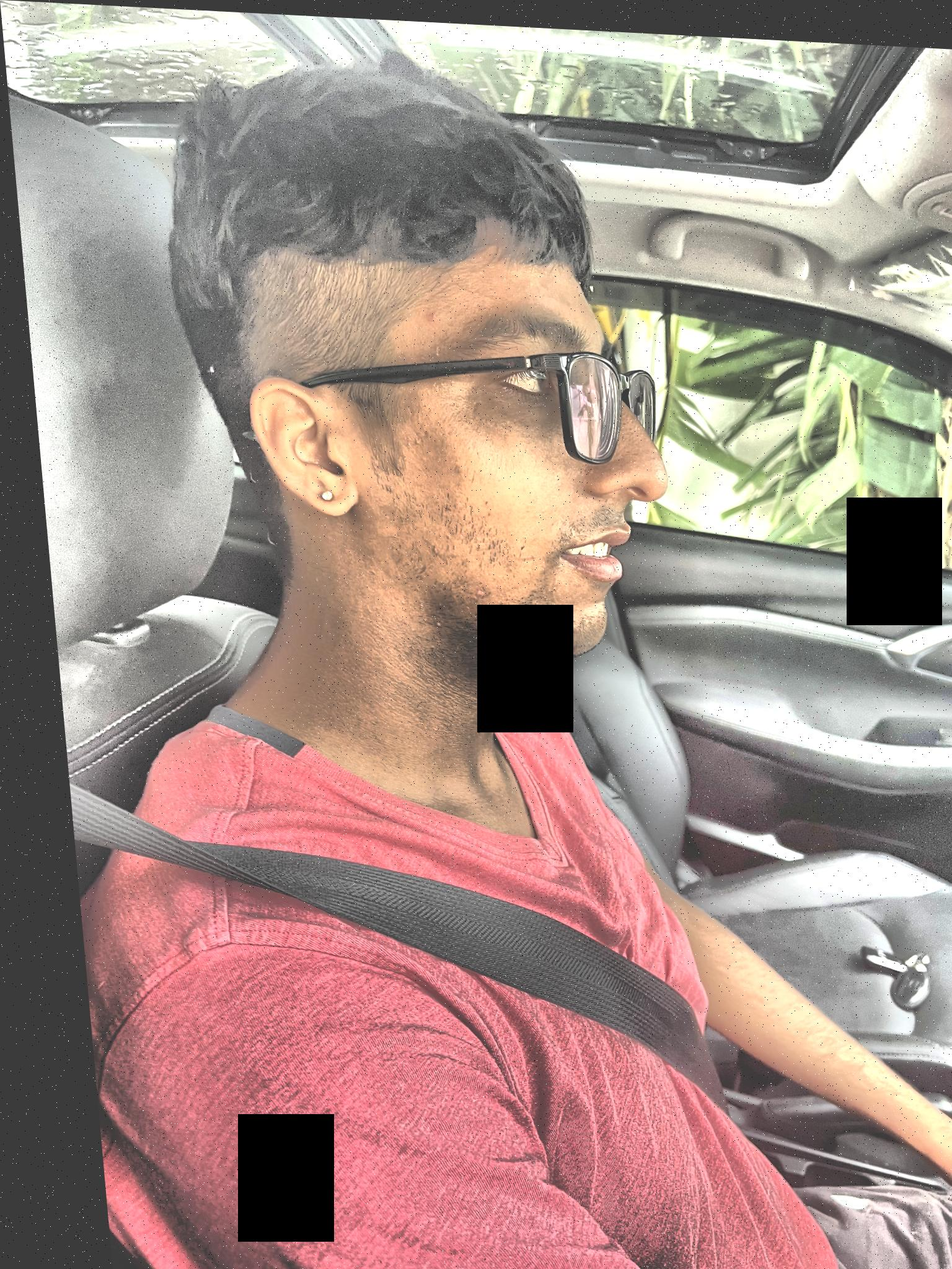seatbelt: (64, 692, 757, 1045)
